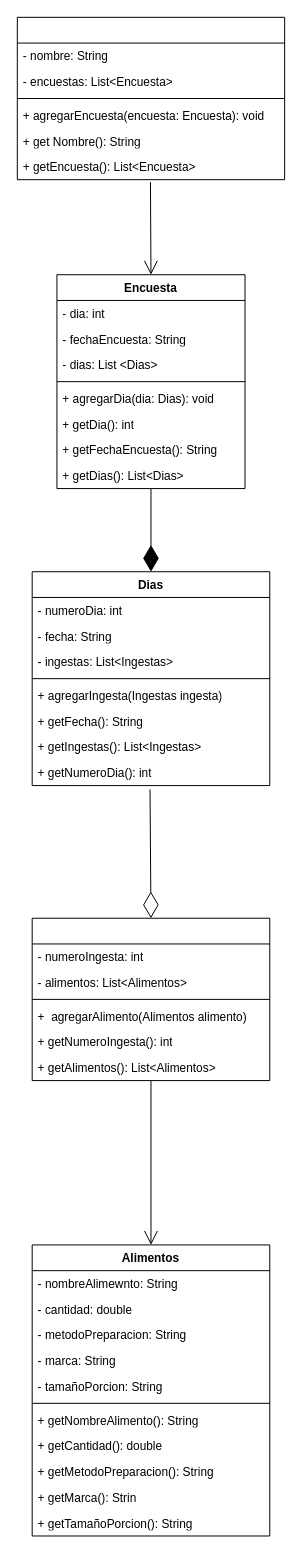
Image size: 302x1556. Some labels were removed from this diagram. The box of each missing label's shape, as (x1, y1, x2, y2) in pixels:
Ingestas: (31, 917, 270, 1081)
Paciente: (16, 16, 285, 180)
